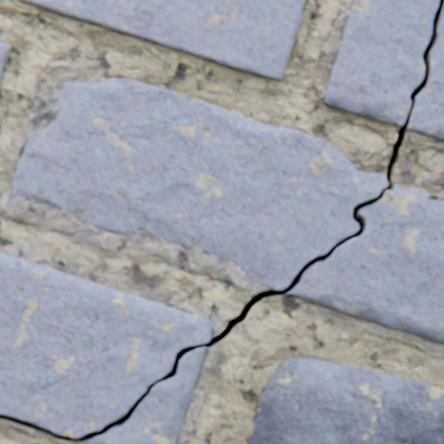brick: (21, 0, 306, 82), (245, 357, 443, 443), (0, 43, 12, 85)
broken_brick: (10, 79, 386, 290), (0, 253, 214, 437), (286, 185, 443, 342), (322, 0, 438, 127), (81, 347, 206, 443), (404, 2, 443, 141)
crack: (0, 0, 443, 442)
